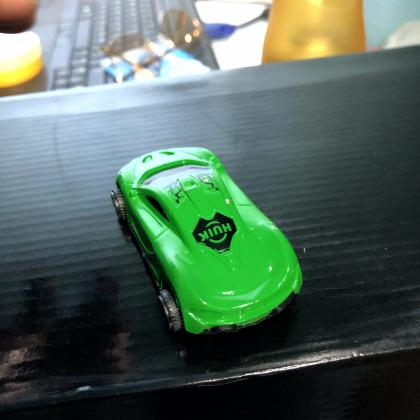Car: (108, 142, 309, 342)
